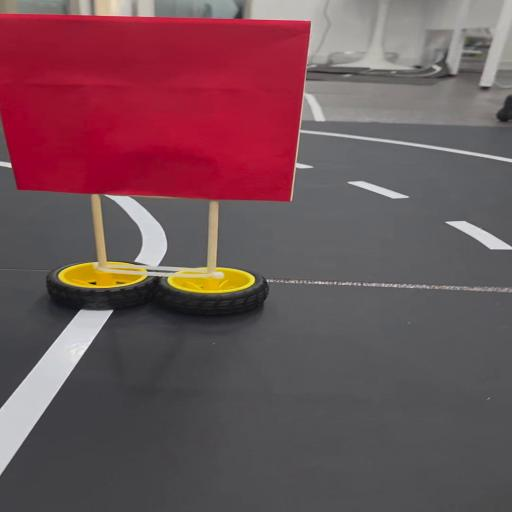Sign_A: (0, 12, 298, 344)
